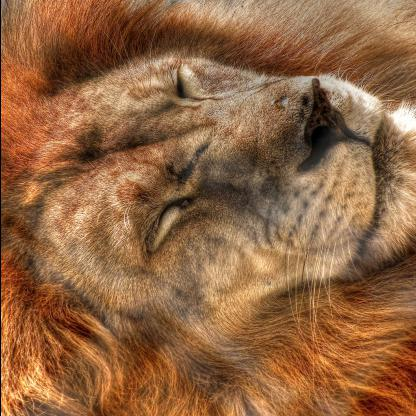lion: (10, 14, 416, 400)
